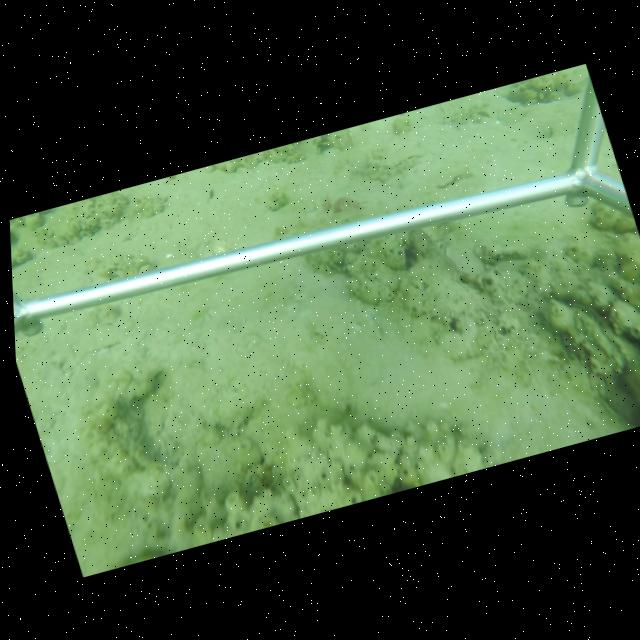Oyster-Indeterminate: (548, 300, 633, 375)
